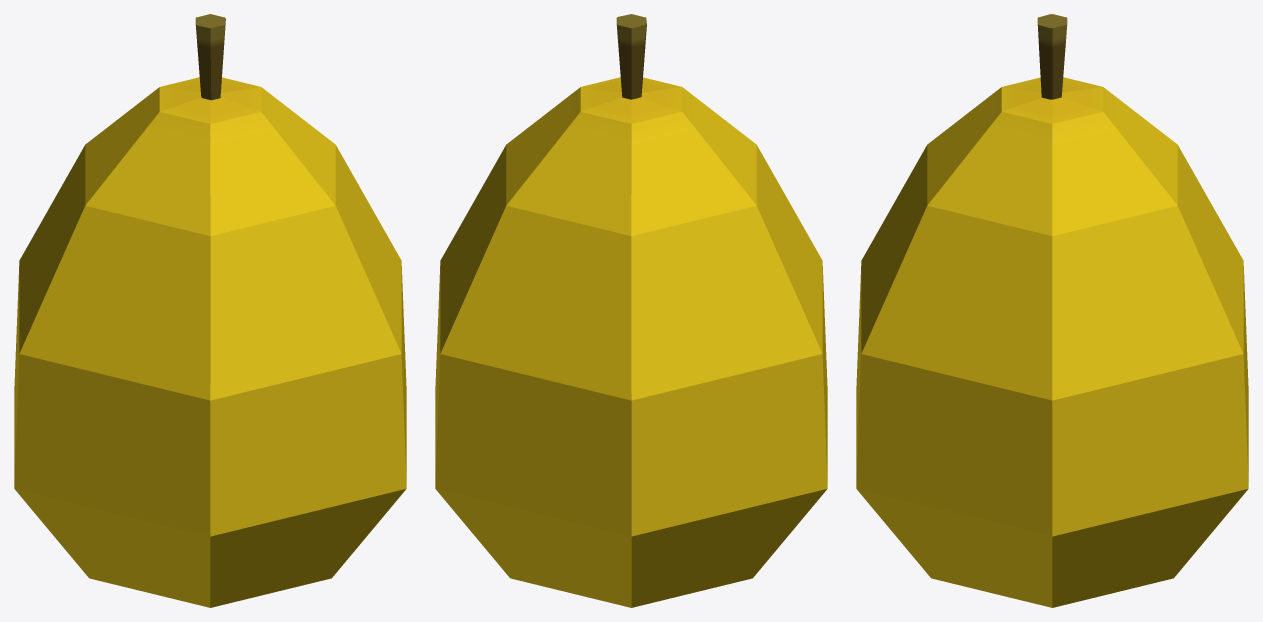
The model's file is Pear.fbx.
3 renders of one model, left to right at view 1: azimuth 30°, elevation 25°; view 2: azimuth 150°, elevation 25°; view 3: azimuth 270°, elevation 25°, orthographic.
Visible parts, largest first — view 1: Pear_All, Pear_Piece; view 2: Pear_All; view 3: Pear_All, Pear_Piece.
Boxes of the visible parts, <box> form: Pear_All: <box>14,14,406,607</box>; Pear_Piece: <box>18,18,386,531</box>; Pear_All: <box>435,14,827,607</box>; Pear_All: <box>856,14,1248,607</box>; Pear_Piece: <box>857,14,1052,485</box>.
Size of the model in its own units: 7.63 by 10.57 by 6.61.
Materials: 1 (1 with a texture image).
